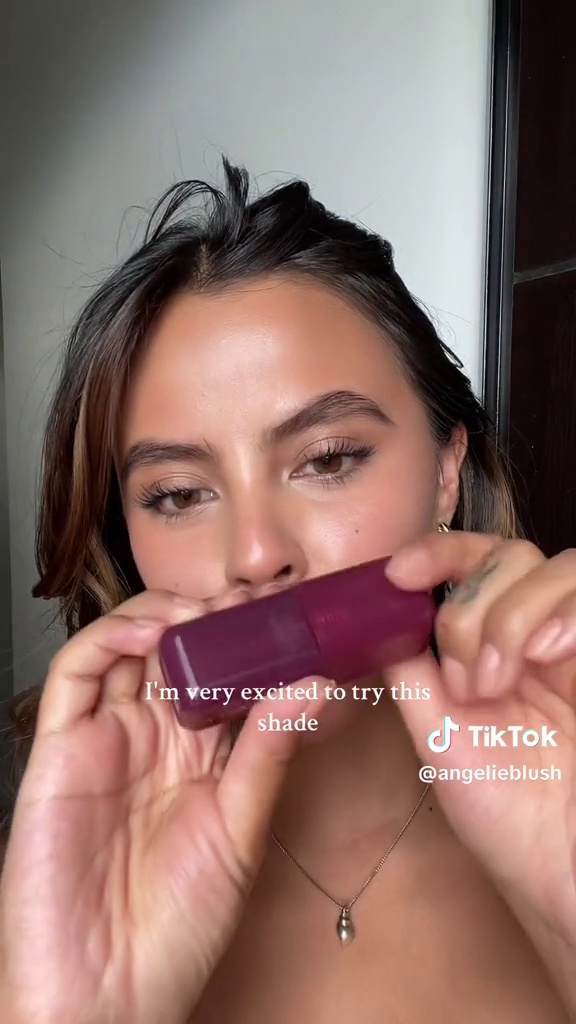train' :'yolo_data/train/images',: (156, 550, 444, 744)
